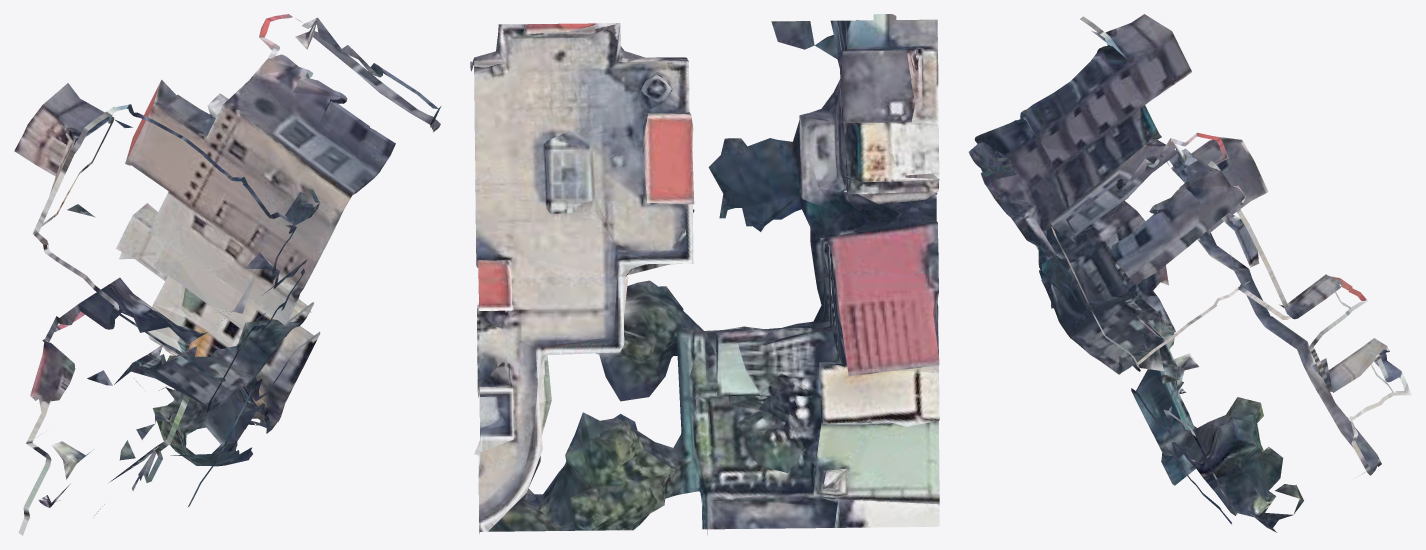
3 views of the same model, side by side, from view 1: azimuth 30°, elevation 25°; view 2: azimuth 150°, elevation 25°; view 3: azimuth 270°, elevation 25° (orthographic). The views are drawn at different scales.
Size of the model in its own units: 40.9 by 42.61 by 42.27.
1 material, 1 textured.
